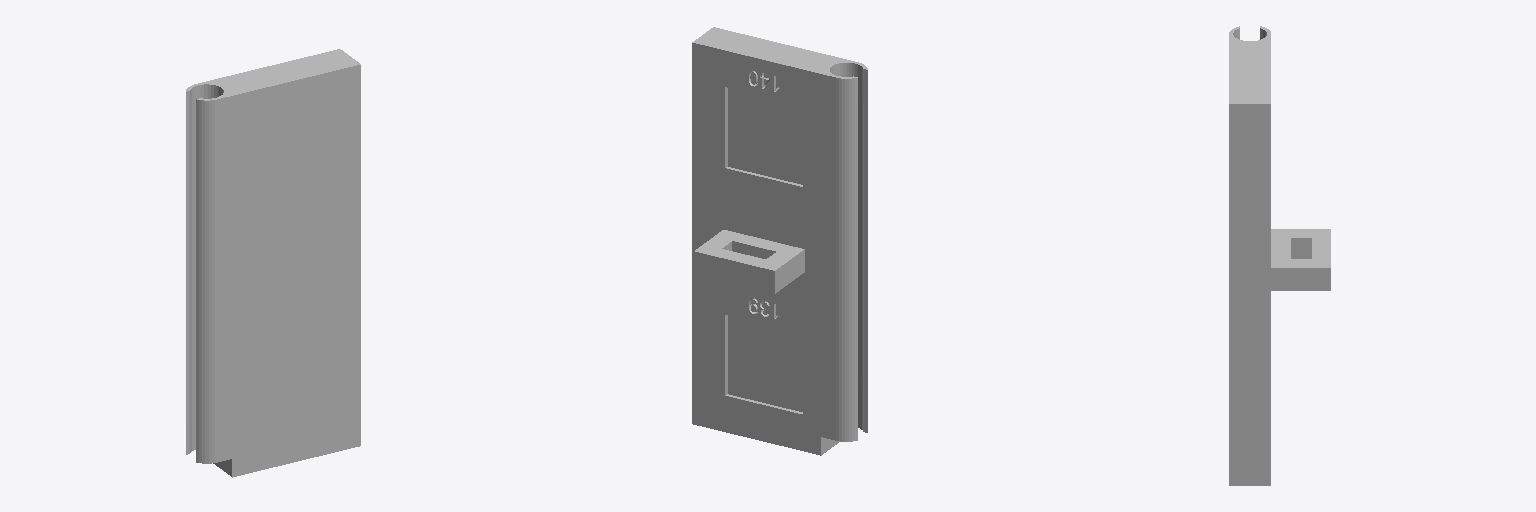
File: cabinet_door_left.obj
3 views of the same model, side by side, from view 1: azimuth 30°, elevation 25°; view 2: azimuth 150°, elevation 25°; view 3: azimuth 270°, elevation 25° (orthographic).
Parts seen in each view (by area): view 1: cabinet_door_left_v23; view 2: cabinet_door_left_v23, cabinet_door_left_v23.002, cabinet_door_left_v23.001; view 3: cabinet_door_left_v23.
Part boxes in pixels (left/top/right/bottom): cabinet_door_left_v23: left=186, top=49, right=360, bottom=477; cabinet_door_left_v23: left=692, top=27, right=867, bottom=455; cabinet_door_left_v23.002: left=725, top=87, right=802, bottom=186; cabinet_door_left_v23.001: left=725, top=315, right=802, bottom=413; cabinet_door_left_v23: left=1229, top=26, right=1330, bottom=485.
Bounding box in the file's own units: 0.0542 × 0.1238 × 0.03.